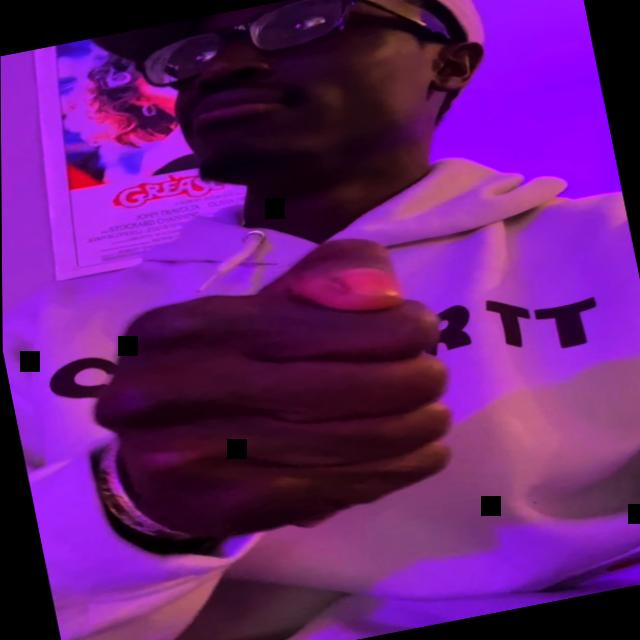Rock: (64, 222, 480, 556)
